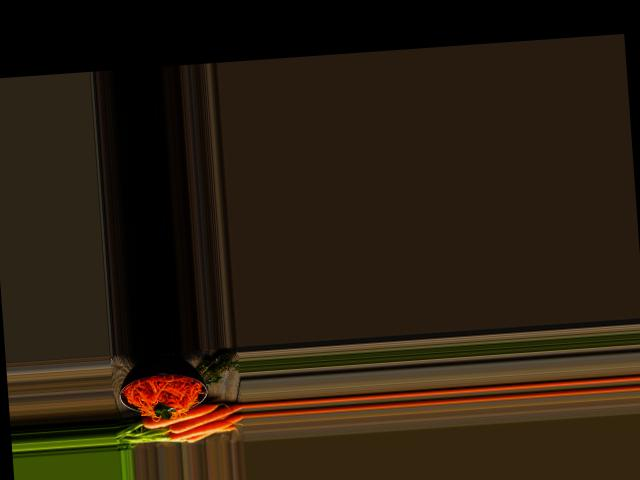carrot: (136, 402, 224, 430)
